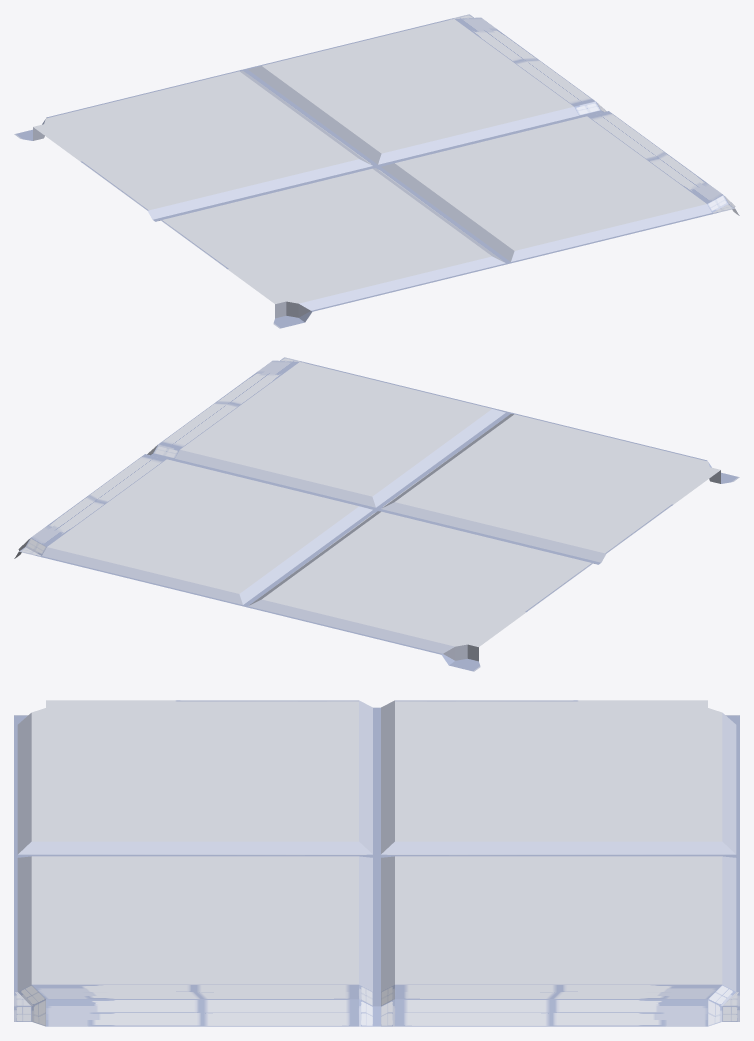
The model's file is Tile_Floor_Cap.fbx.
3 views of the same model, one above another, from view 1: azimuth 30°, elevation 25°; view 2: azimuth 150°, elevation 25°; view 3: azimuth 270°, elevation 25° (orthographic). The views are drawn at different scales.
Parts seen in each view (by area): view 1: TIle_Floor_Side3; view 2: TIle_Floor_Side3; view 3: TIle_Floor_Side3.
Boxes of the visible parts, <box> form: TIle_Floor_Side3: <box>14,14,739,328</box>; TIle_Floor_Side3: <box>14,357,739,671</box>; TIle_Floor_Side3: <box>14,700,739,1026</box>.
Bounding box in the file's own units: 203 × 5.9 × 200.
